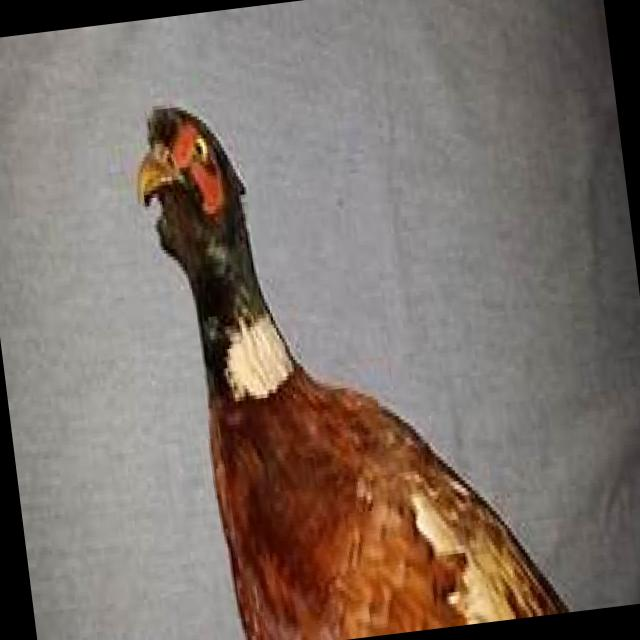animal: (123, 66, 566, 640)
